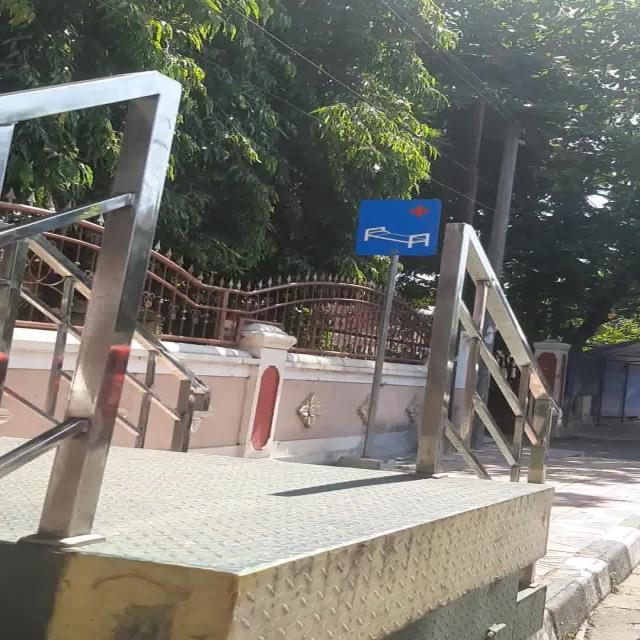Rumah Sakit: (354, 199, 442, 255)
